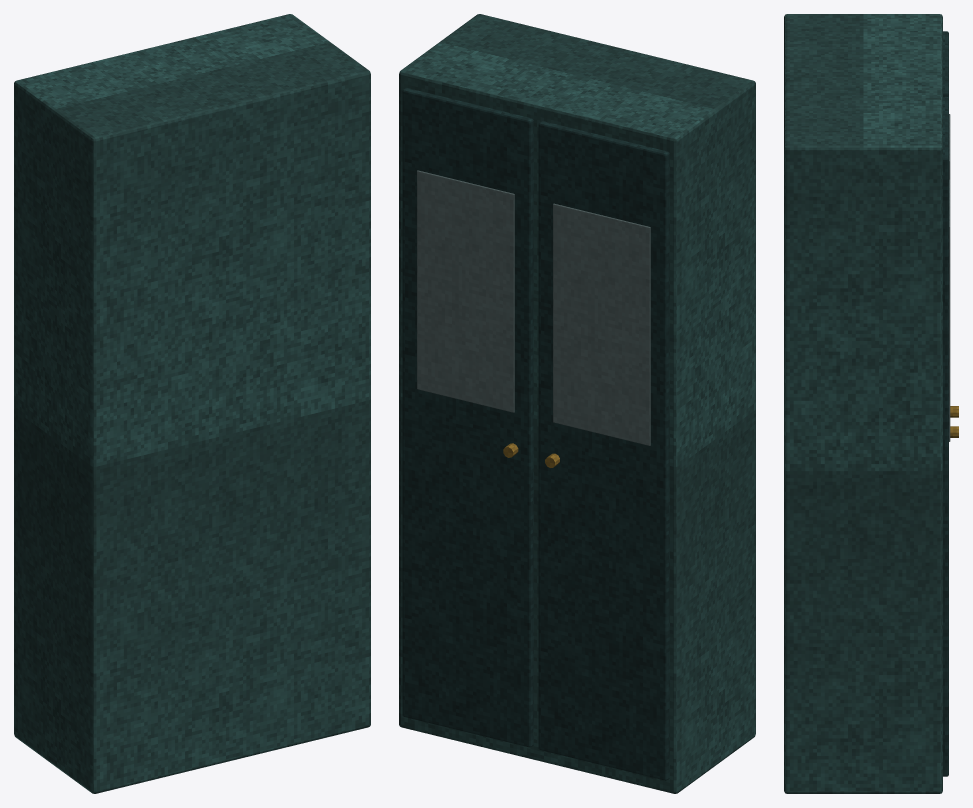
Rendered from cabinet.glb.
3 renders of one model, left to right at view 1: azimuth 30°, elevation 25°; view 2: azimuth 150°, elevation 25°; view 3: azimuth 270°, elevation 25°, orthographic.
Parts seen in each view (by area): view 1: cabinet; view 2: cabinet; view 3: cabinet.
Part boxes in pixels (<box>): cabinet: <box>14,14,370,793</box>; cabinet: <box>399,14,755,793</box>; cabinet: <box>784,14,958,793</box>.
Bounding box in the file's own units: 0.8 × 1.8 × 0.44.
Materials: 7 (7 with a texture image).
